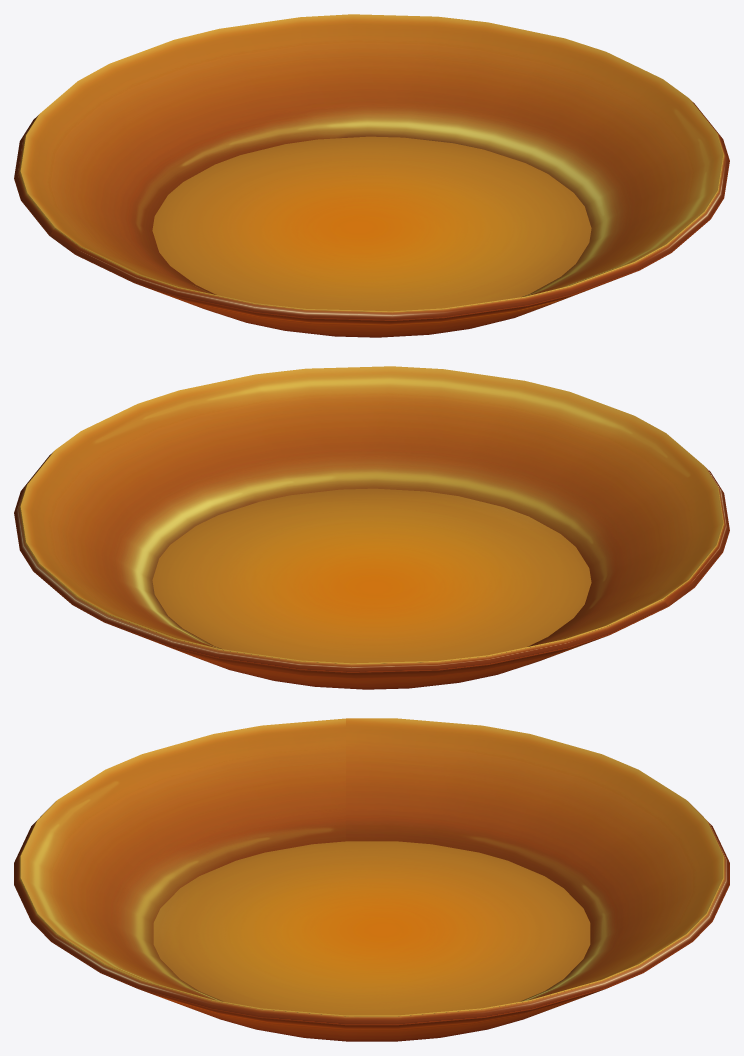
File: PratoHi.fbx
The picture shows the model from 3 angles, top to bottom: view 1: azimuth 30°, elevation 25°; view 2: azimuth 150°, elevation 25°; view 3: azimuth 270°, elevation 25°; orthographic projection.
Parts seen in each view (by area): view 1: Cylinder; view 2: Cylinder; view 3: Cylinder.
Boxes of the visible parts, left/top/right/bottom form: Cylinder: left=14, top=14, right=729, bottom=337; Cylinder: left=14, top=366, right=729, bottom=689; Cylinder: left=14, top=718, right=729, bottom=1041.
Size of the model in its own units: 416 by 46.7 by 416.
1 material, 1 textured.
